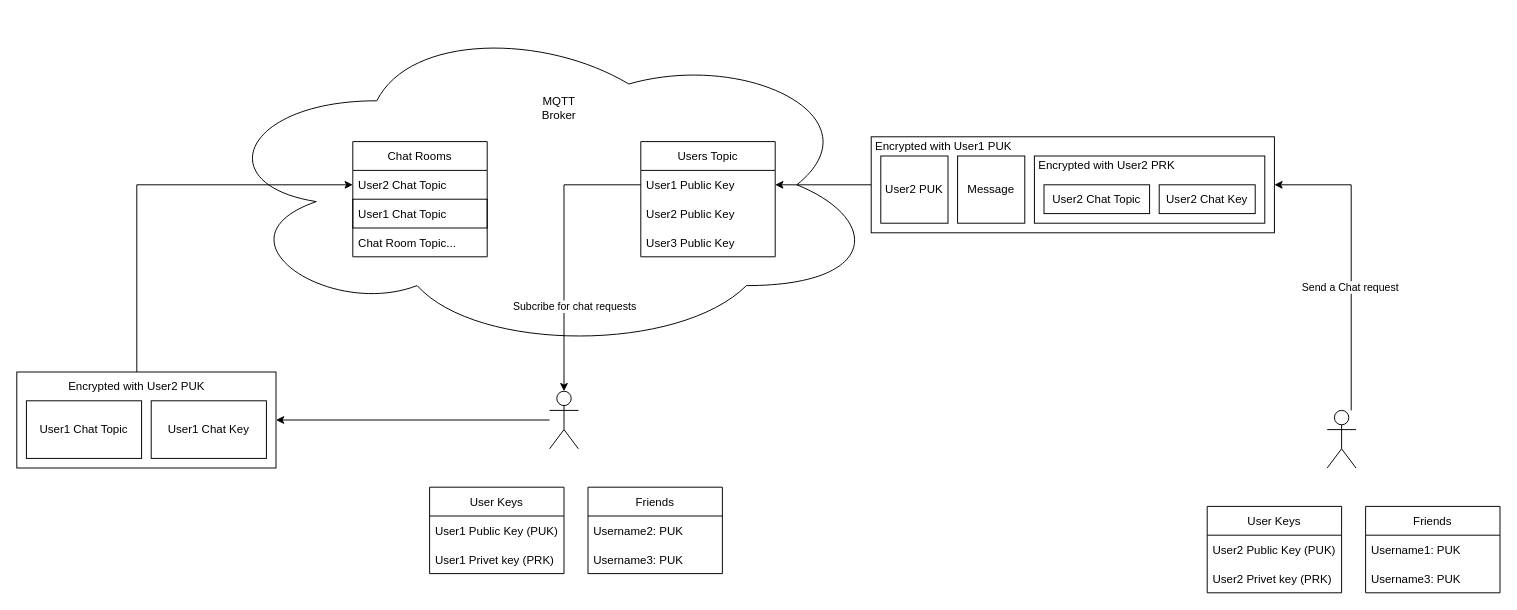
This 1517x610 diagram has some shape labels left out. Each missing label, with the centre of its shape:
Username1: the point at 563,419
Username2: the point at 1341,438
